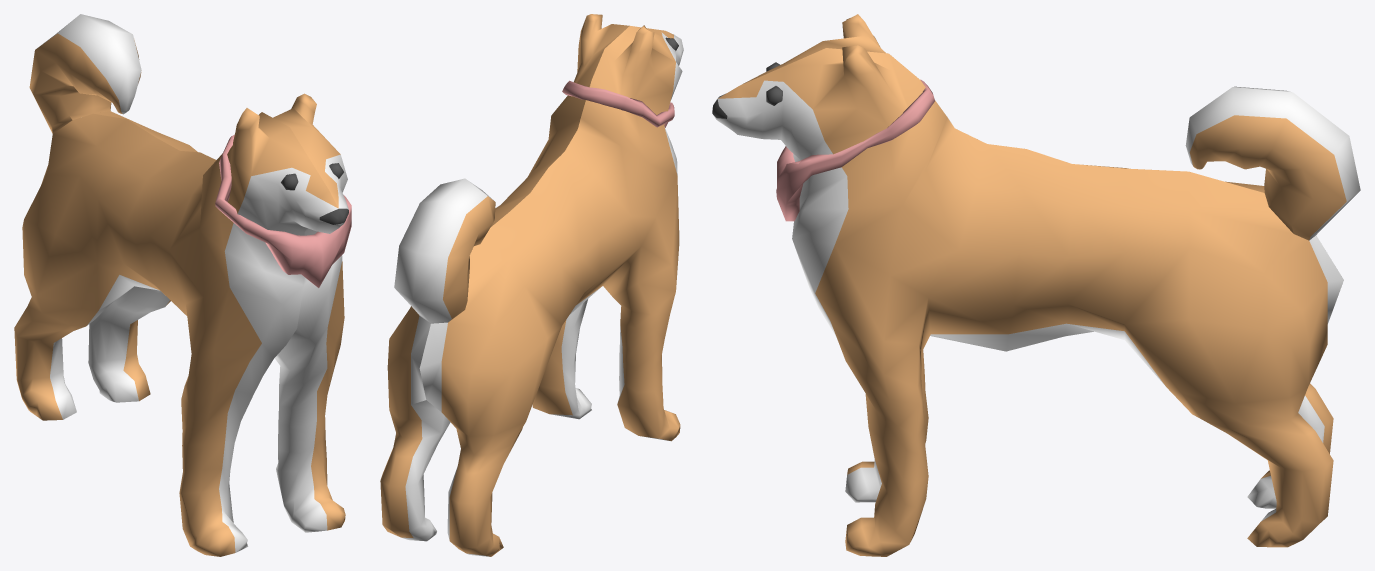
Rendered from Dog.gltf.
3 views of the same model, side by side, from view 1: azimuth 30°, elevation 25°; view 2: azimuth 150°, elevation 25°; view 3: azimuth 270°, elevation 25° (orthographic). The views are drawn at different scales.
Parts seen in each view (by area): view 1: node-0; view 2: node-0; view 3: node-0.
Boxes of the visible parts, box(x1,y1,x2,y2) form: node-0: box(14, 14, 351, 556); node-0: box(380, 14, 683, 556); node-0: box(712, 14, 1360, 556).
Bounding box in the file's own units: 283 × 775 × 932.
